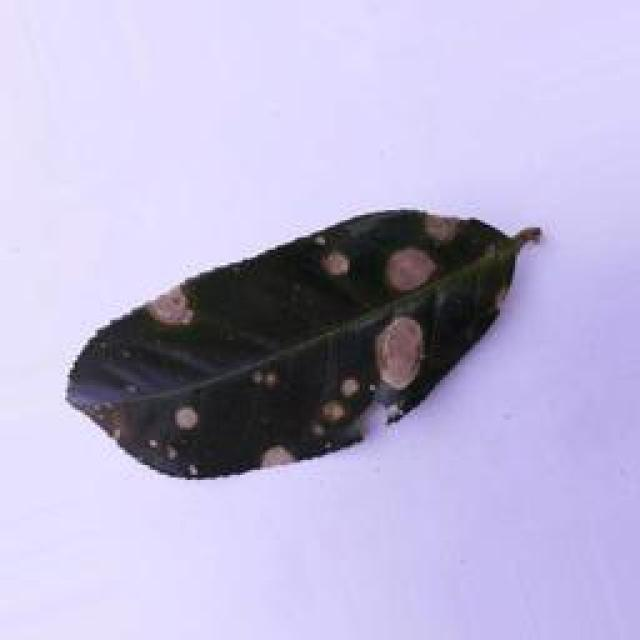Gray Blight: (58, 202, 544, 493)
